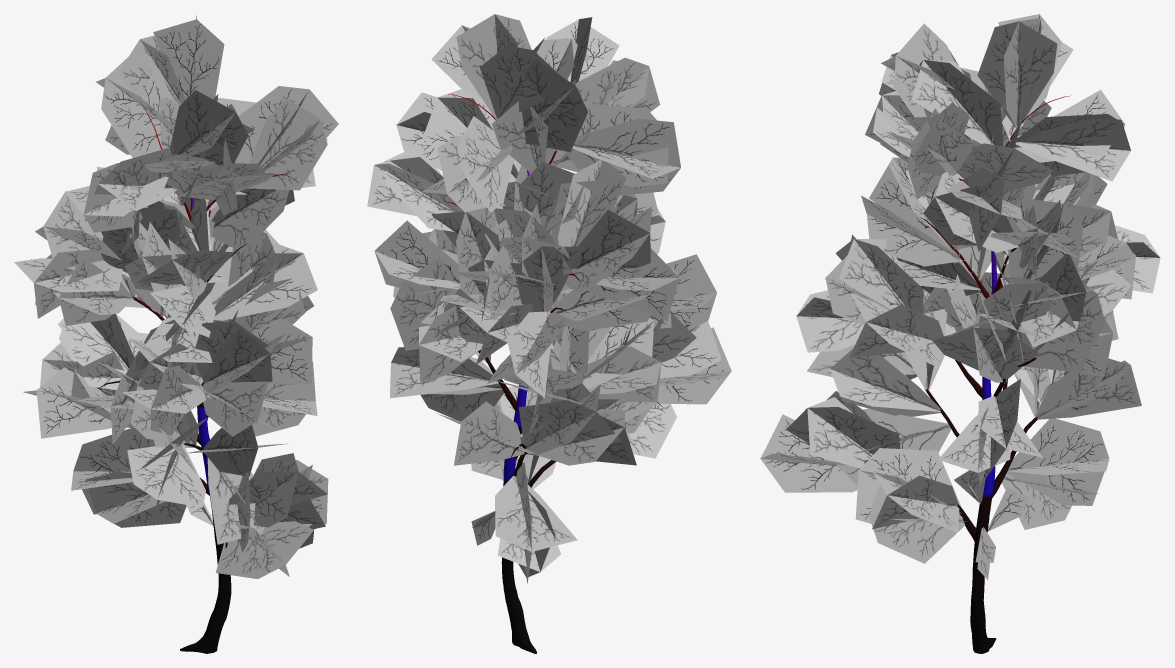
Rendered from Tree_C_01.FBX.
3 views of the same model, side by side, from view 1: azimuth 30°, elevation 25°; view 2: azimuth 150°, elevation 25°; view 3: azimuth 270°, elevation 25° (orthographic). The views are drawn at different scales.
Visible parts, largest first — view 1: Tree_C_01_LOD0; view 2: Tree_C_01_LOD0; view 3: Tree_C_01_LOD0.
Part boxes in pixels (x1,y1,x2,y2): Tree_C_01_LOD0: (14,15,338,653); Tree_C_01_LOD0: (367,14,731,653); Tree_C_01_LOD0: (760,14,1160,653).
Size of what is drawn, in the model's own units: 1050 by 2217 by 1272.
